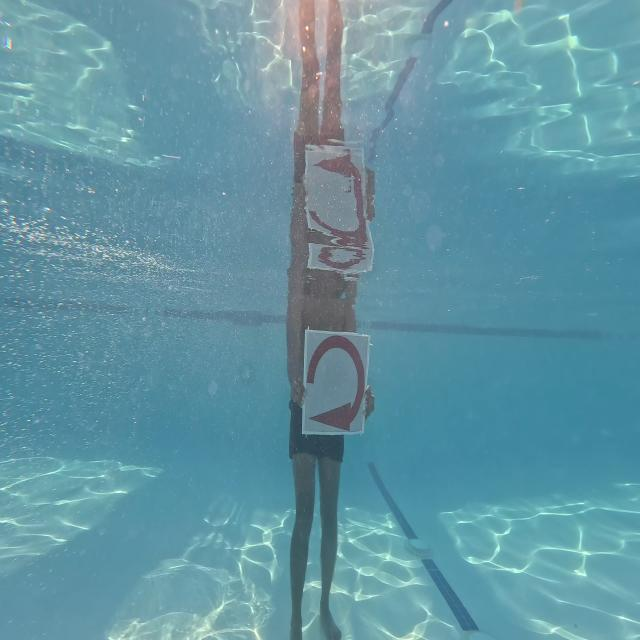red_side: (296, 319, 374, 442)
